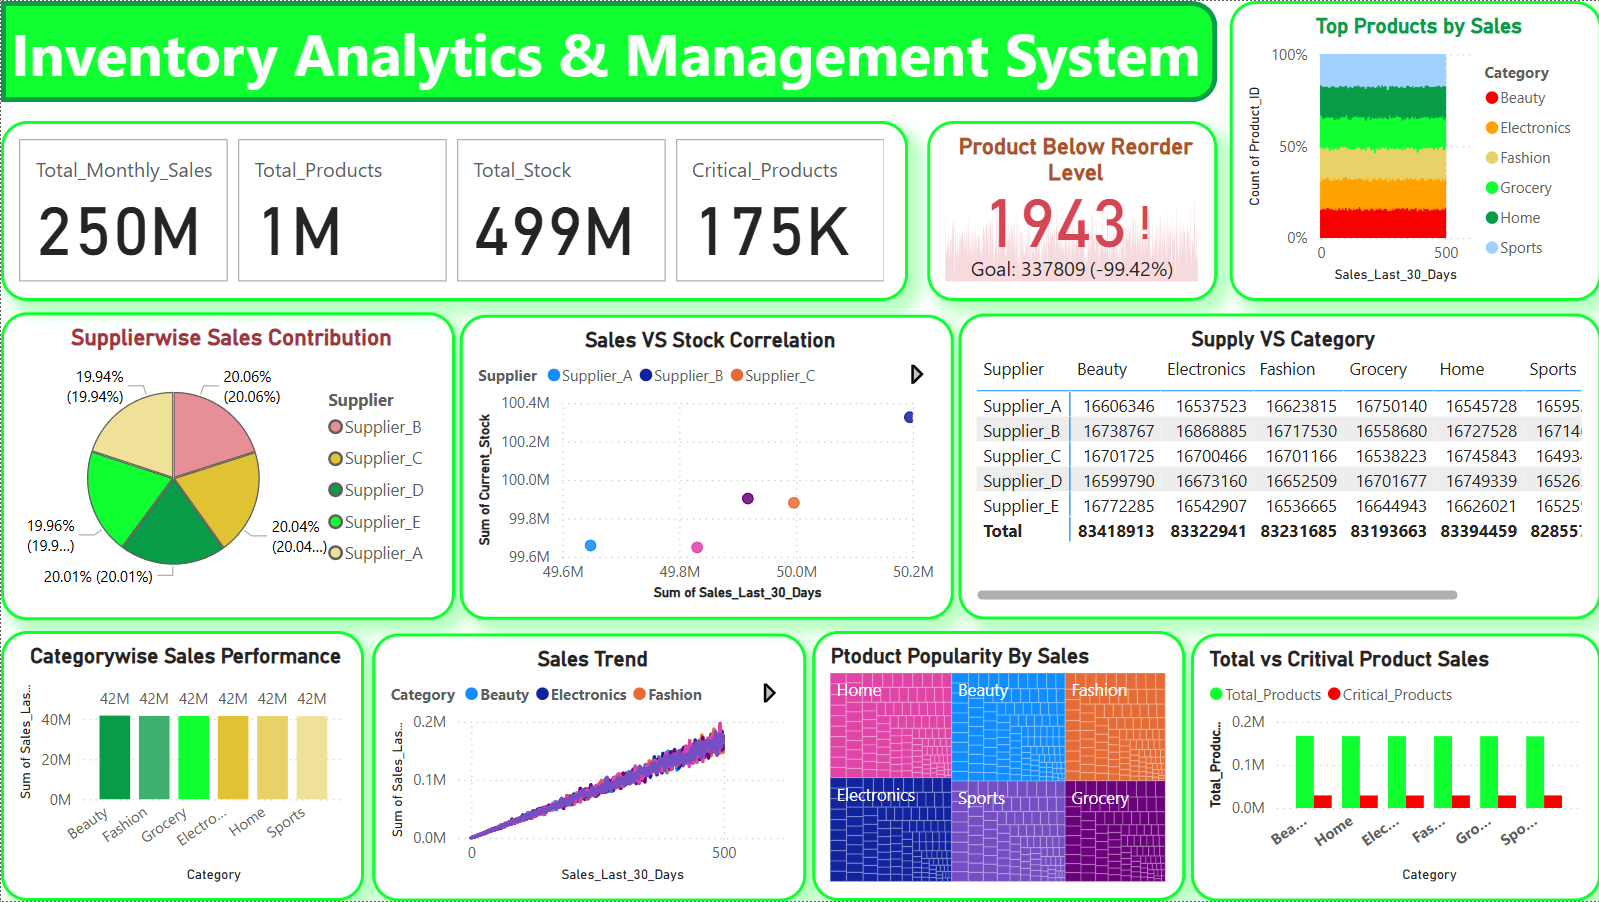

This screenshot's page, from the dashboard's own definition file:
{"tool":"powerbi","page":{"name":"Page 1","canvas":[1280,720],"ordinal":0},"visuals":[{"type":"shape","box":[0,0,972.9,81],"z":0},{"type":"kpi","title":"Product Below Reorder Level","fields":{"Indicator":["CountNonNull(inventory_stock.Product_ID)"],"TrendLine":["inventory_stock.Sales_Last_30_Days"],"Goal":["Sum(inventory_stock.Reorder_Level)"]},"box":[741.3,96,232,144],"z":1000},{"type":"pieChart","title":"Supplierwise Sales Contribution","fields":{"Category":["inventory_stock.Supplier"],"Y":["Sum(inventory_stock.Sales_Last_30_Days)"]},"box":[0,249.3,362.7,245.3],"z":2000},{"type":"hundredPercentStackedColumnChart","title":"Top Products by Sales","fields":{"Category":["inventory_stock.Sales_Last_30_Days"],"Y":["CountNonNull(inventory_stock.Product_ID)"],"Series":["inventory_stock.Category"]},"box":[982.5,0,297.8,240.1],"z":3000},{"type":"columnChart","title":"Categorywise Sales Performance","fields":{"Category":["inventory_stock.Category"],"Y":["Sum(inventory_stock.Sales_Last_30_Days)"]},"box":[0,503.6,289.5,216.8],"z":4000},{"type":"cardVisual","fields":{"Data":["inventory_stock.Total_Monthly_Sales","inventory_stock.Total_Products","inventory_stock.Total_Stock","inventory_stock.Critical_Products"]},"box":[0,96,725.3,144],"z":5000},{"type":"lineChart","title":"Sales Trend","fields":{"Category":["inventory_stock.Sales_Last_30_Days"],"Y":["Sum(inventory_stock.Sales_Last_30_Days)"],"Series":["inventory_stock.Category"]},"box":[297,506.3,347.2,214.1],"z":6000},{"type":"scatterChart","title":"Sales VS Stock Correlation","fields":{"X":["Sum(inventory_stock.Sales_Last_30_Days)"],"Y":["Sum(inventory_stock.Current_Stock)"],"Series":["inventory_stock.Supplier"]},"box":[367,251.1,395.2,244.3],"z":7000},{"type":"pivotTable","title":"Supply VS Category ","fields":{"Rows":["inventory_stock.Supplier"],"Columns":["inventory_stock.Category"],"Values":["Sum(inventory_stock.Current_Stock)"]},"box":[765.7,249.7,514.6,245.6],"z":8000},{"type":"treemap","title":"Ptoduct Popularity By Sales","fields":{"Group":["inventory_stock.Category"],"Details":["inventory_stock.Product_ID"],"Values":["Sum(inventory_stock.Sales_Last_30_Days)"]},"box":[649,503.6,297.8,216.8],"z":9000},{"type":"lineClusteredColumnComboChart","title":"Total vs Critival Product Sales","fields":{"Category":["inventory_stock.Category"],"Y":["inventory_stock.Total_Products","inventory_stock.Critical_Products"]},"box":[952.3,506.3,328,214.1],"z":9001}]}

Visuals, with their boxes in screenshot pixels (x1, y1, x2, y2), scaled from the page's 1280x720 canvas onto the 1599x902 screenshot:
shape: box(0, 0, 1215, 101)
"Product Below Reorder Level" kpi: box(926, 120, 1216, 301)
"Supplierwise Sales Contribution" pieChart: box(0, 312, 453, 620)
"Top Products by Sales" hundredPercentStackedColumnChart: box(1227, 0, 1598, 301)
"Categorywise Sales Performance" columnChart: box(0, 631, 362, 901)
cardVisual - inventory_stock.Total_Monthly_Sales x inventory_stock.Total_Products: box(0, 120, 906, 301)
"Sales Trend" lineChart: box(371, 634, 805, 901)
"Sales VS Stock Correlation" scatterChart: box(458, 315, 952, 621)
"Supply VS Category " pivotTable: box(957, 313, 1598, 621)
"Ptoduct Popularity By Sales" treemap: box(811, 631, 1183, 901)
"Total vs Critival Product Sales" lineClusteredColumnComboChart: box(1190, 634, 1598, 901)
